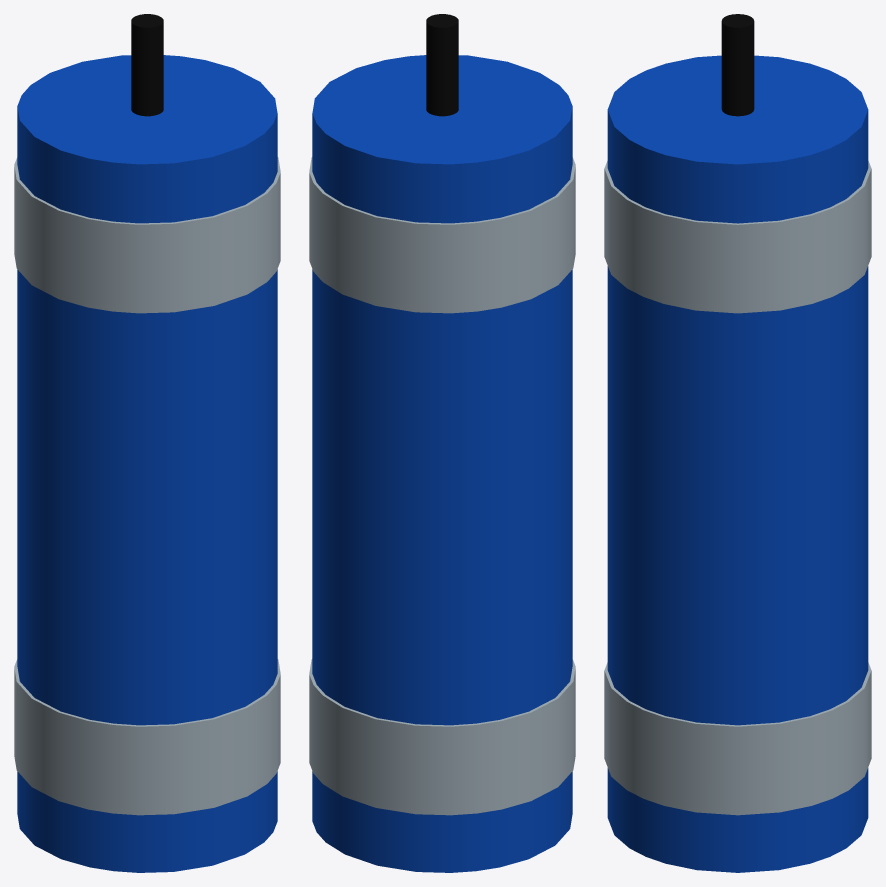
The model's file is Sticky Dynamite.fbx.
The picture shows the model from 3 angles, left to right: view 1: azimuth 30°, elevation 25°; view 2: azimuth 150°, elevation 25°; view 3: azimuth 270°, elevation 25°; orthographic projection.
Visible parts, largest first — view 1: Sticky Dynamite; view 2: Sticky Dynamite; view 3: Sticky Dynamite.
Boxes of the visible parts, x1,y1,x2,y2 form: Sticky Dynamite: [14, 14, 280, 872]; Sticky Dynamite: [309, 14, 575, 872]; Sticky Dynamite: [604, 14, 871, 872].
Bounding box in the file's own units: 82 × 270 × 82.
